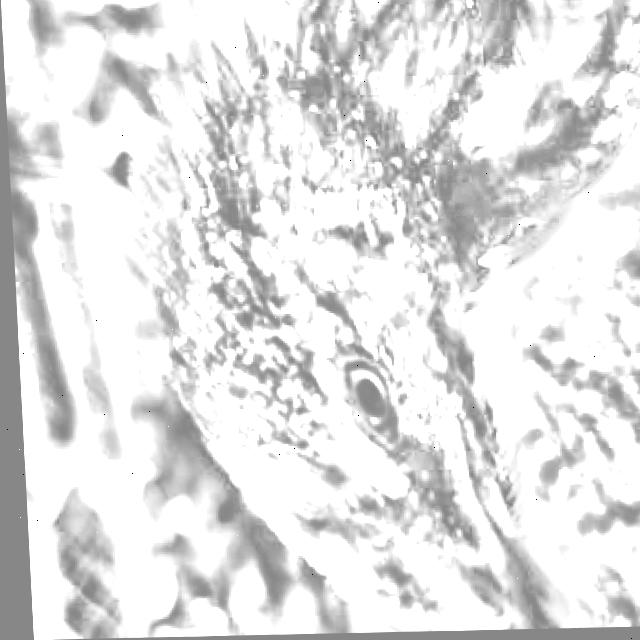Healthy: (334, 331, 410, 442)
